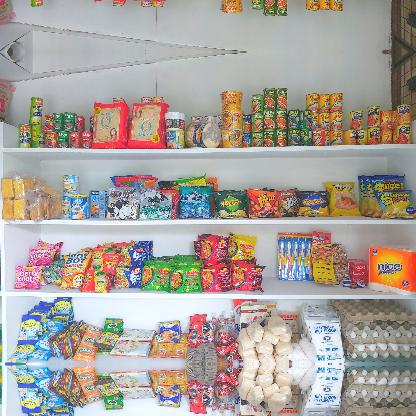Lady-s-Choice: (184, 122, 220, 148)
